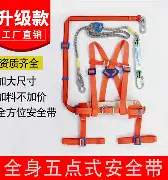safety belt: (56, 18, 159, 151)
